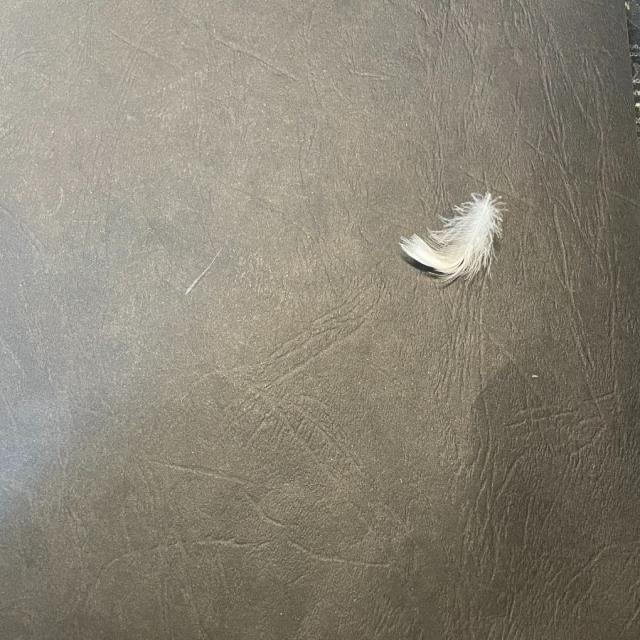feather: (399, 192, 508, 284)
